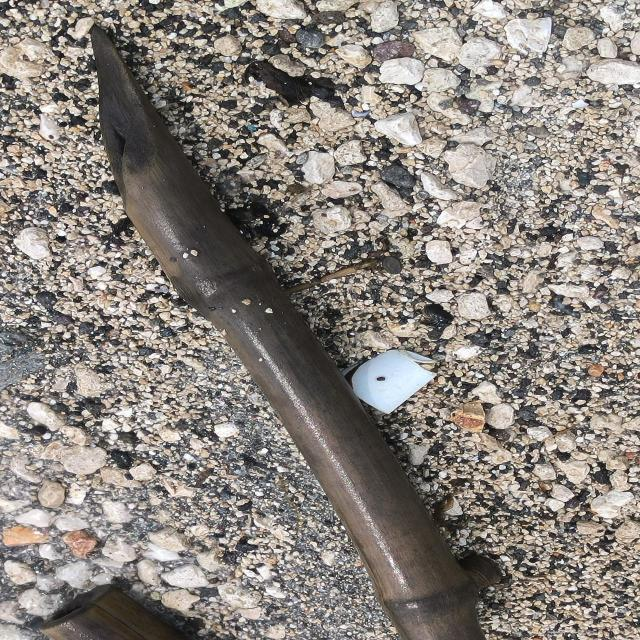wood_waste: (87, 21, 489, 640)
